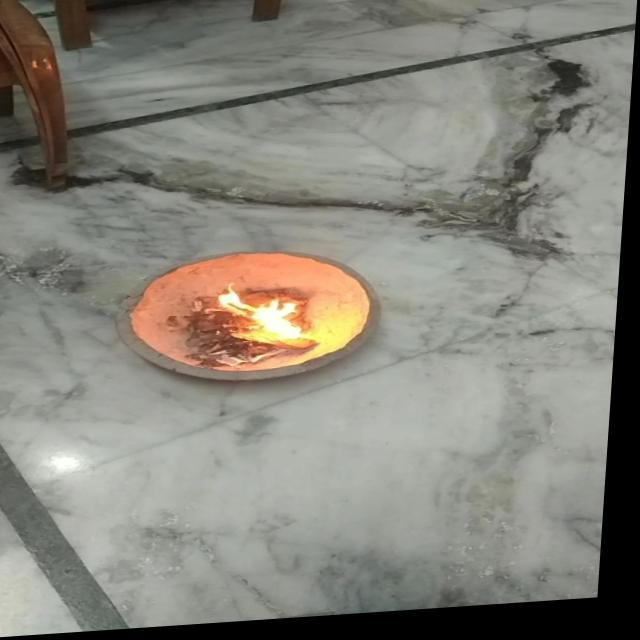fire: (206, 281, 323, 355)
